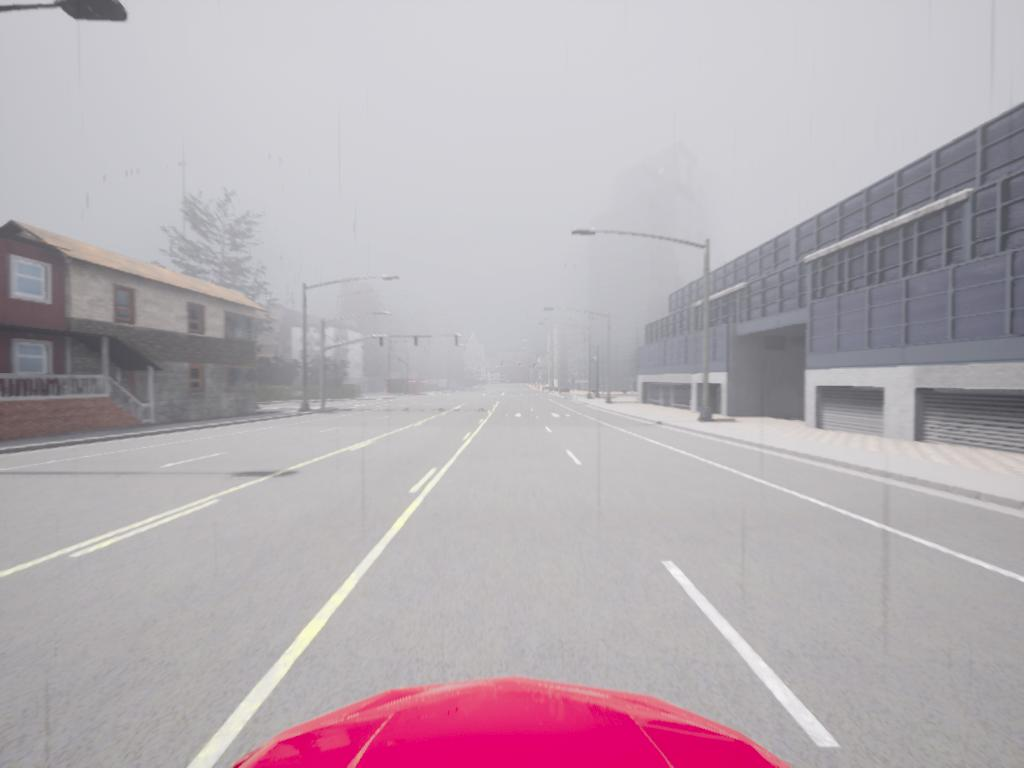traffic_light: (455, 336, 459, 347), (415, 338, 419, 348), (380, 338, 384, 347), (519, 362, 522, 371), (534, 363, 537, 371), (501, 362, 504, 369)
